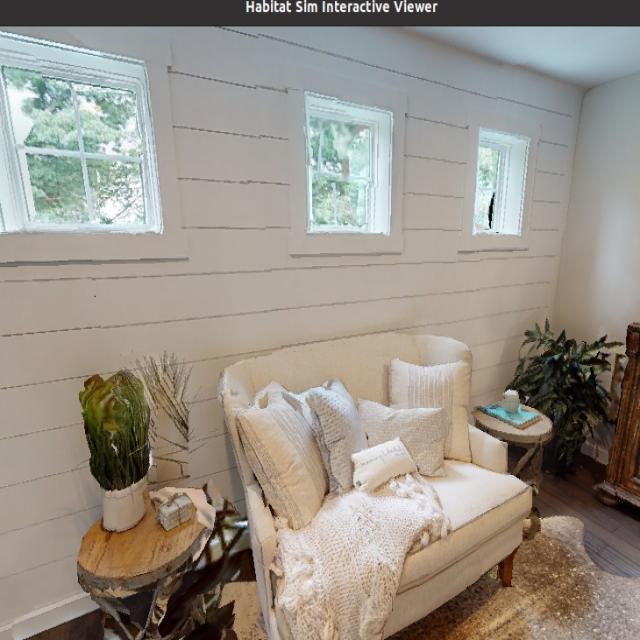sofa: (207, 283, 544, 640)
